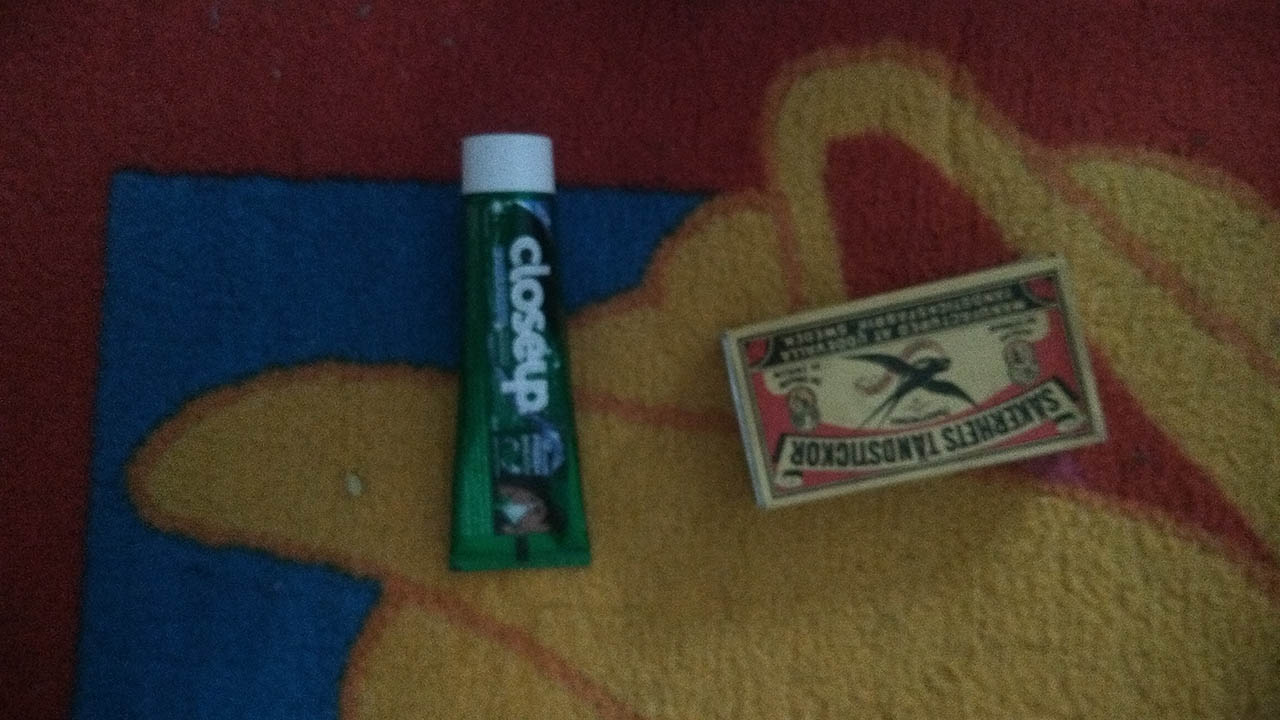Toothpaste-Closeup 3.04$: (441, 111, 618, 579)
match-sticks .90$: (662, 221, 1135, 517)
